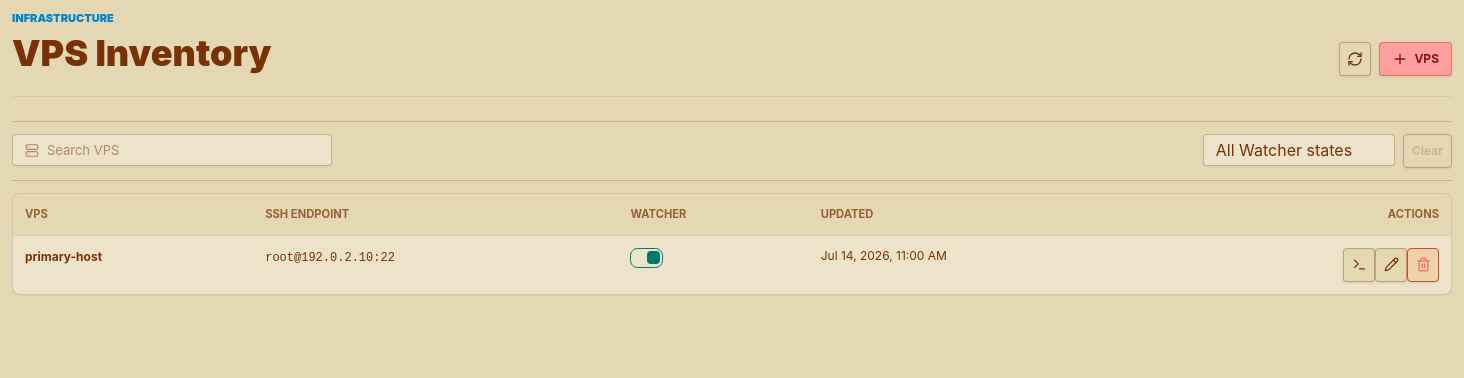
Scenario: VpsPage › shows the backend error when SSH verification fails
Step 1. Click the button named "Verify primary-host" → (1359, 265), box [1343, 248, 1375, 282]
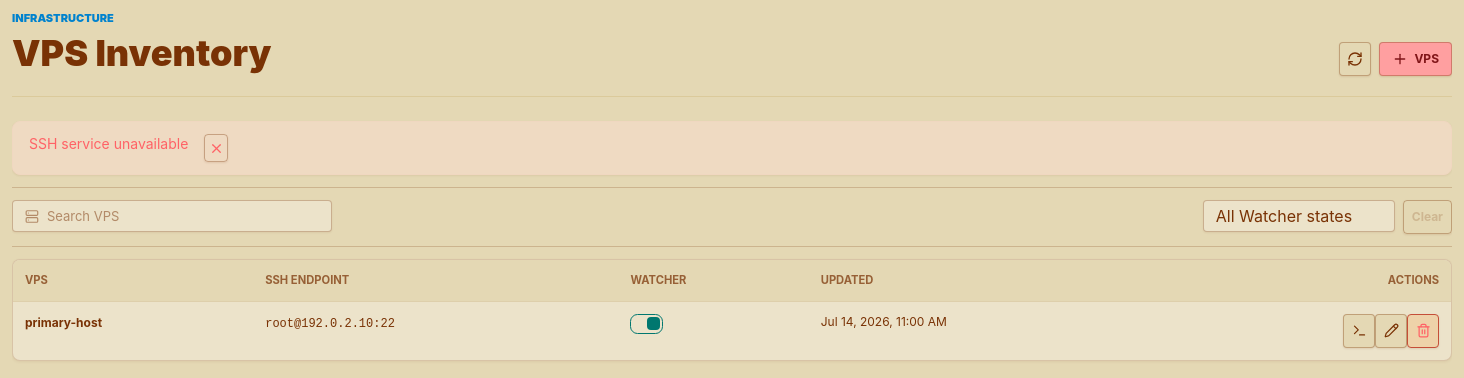
Expected: the text "SSH service unavailable" is shown, [29, 134, 188, 154]
